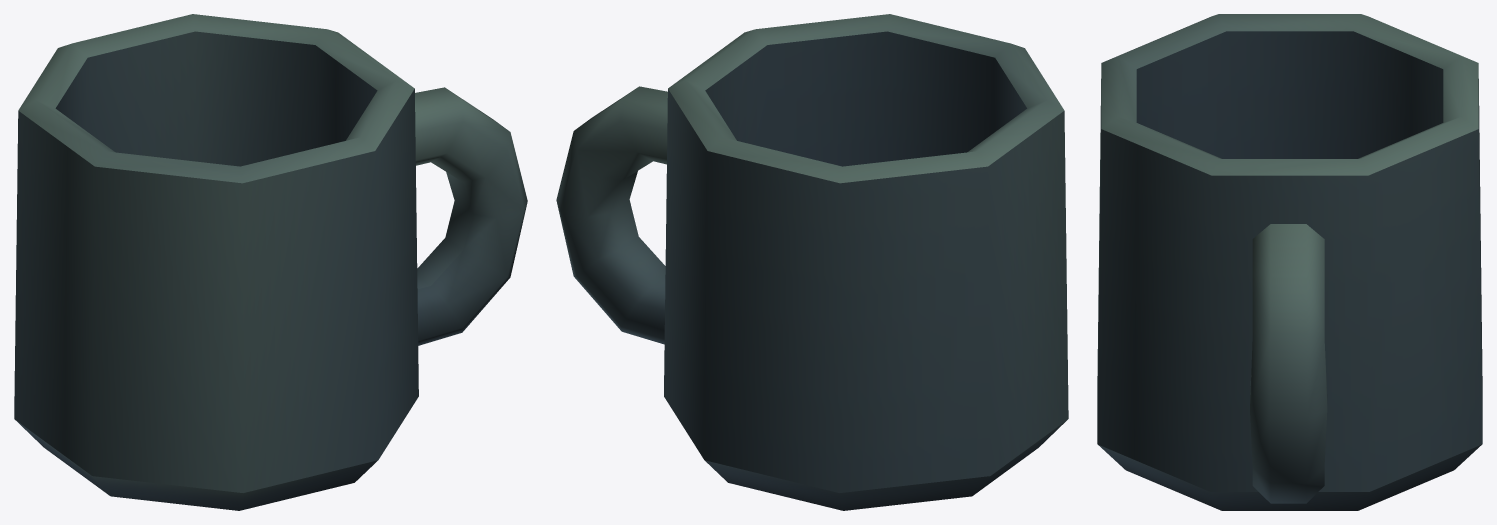
File: cup.fbx
3 views of the same model, side by side, from view 1: azimuth 30°, elevation 25°; view 2: azimuth 150°, elevation 25°; view 3: azimuth 270°, elevation 25° (orthographic). The views are drawn at different scales.
Parts seen in each view (by area): view 1: cup; view 2: cup; view 3: cup.
Boxes of the visible parts, left/top/right/bottom form: cup: left=14, top=14, right=527, bottom=510; cup: left=556, top=14, right=1068, bottom=510; cup: left=1097, top=14, right=1482, bottom=510.
Size of the model in its own units: 32.88 by 23.53 by 23.13.
